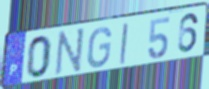0: (25, 34, 56, 80)
5: (147, 15, 171, 61)
6: (177, 12, 199, 56)
G: (86, 26, 113, 70)
I: (118, 22, 129, 67)
N: (53, 26, 87, 77)
